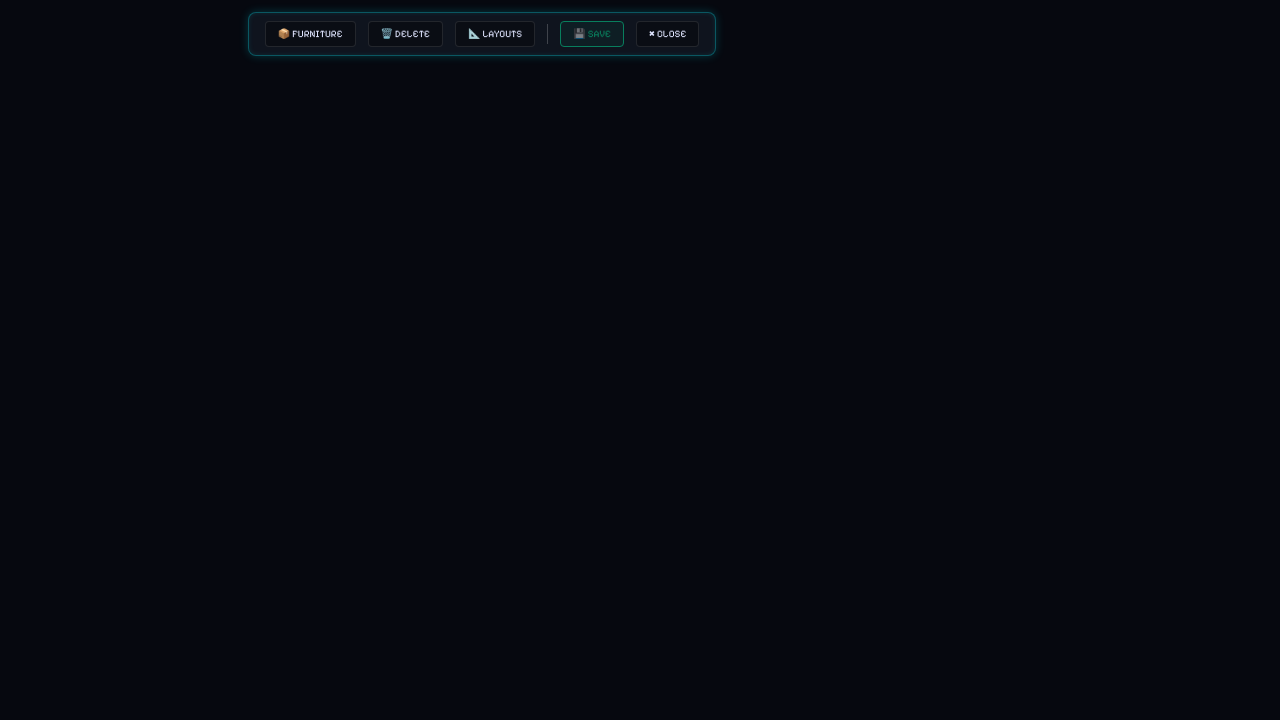
it: Issue #109 — delete confirmation guard › restores focus to a surviving control after the parent re-renders without the deleted row
The width and height of the screenshot is (1280, 720).
Click the button titled "Layout manager".
click(495, 34)  # box x1=455 y1=21 x2=535 y2=47
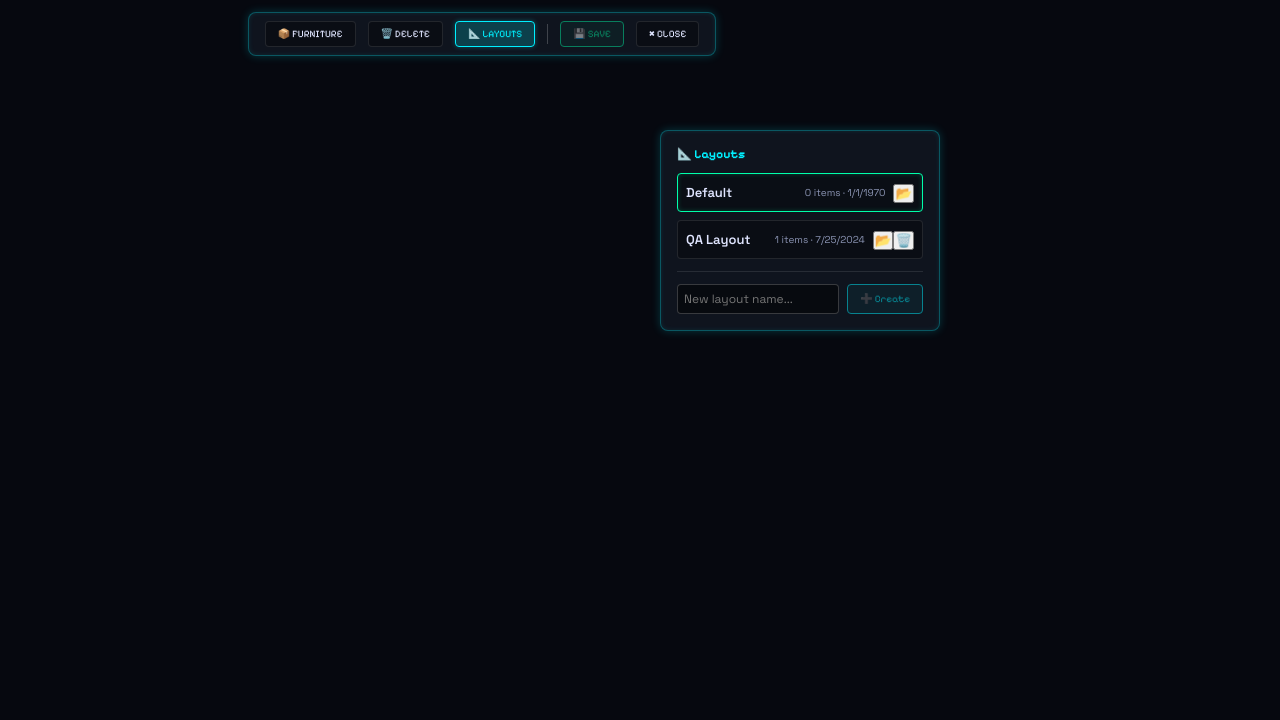
Click the button named "Delete QA Layout".
click(904, 240)  # box x1=893 y1=231 x2=914 y2=250
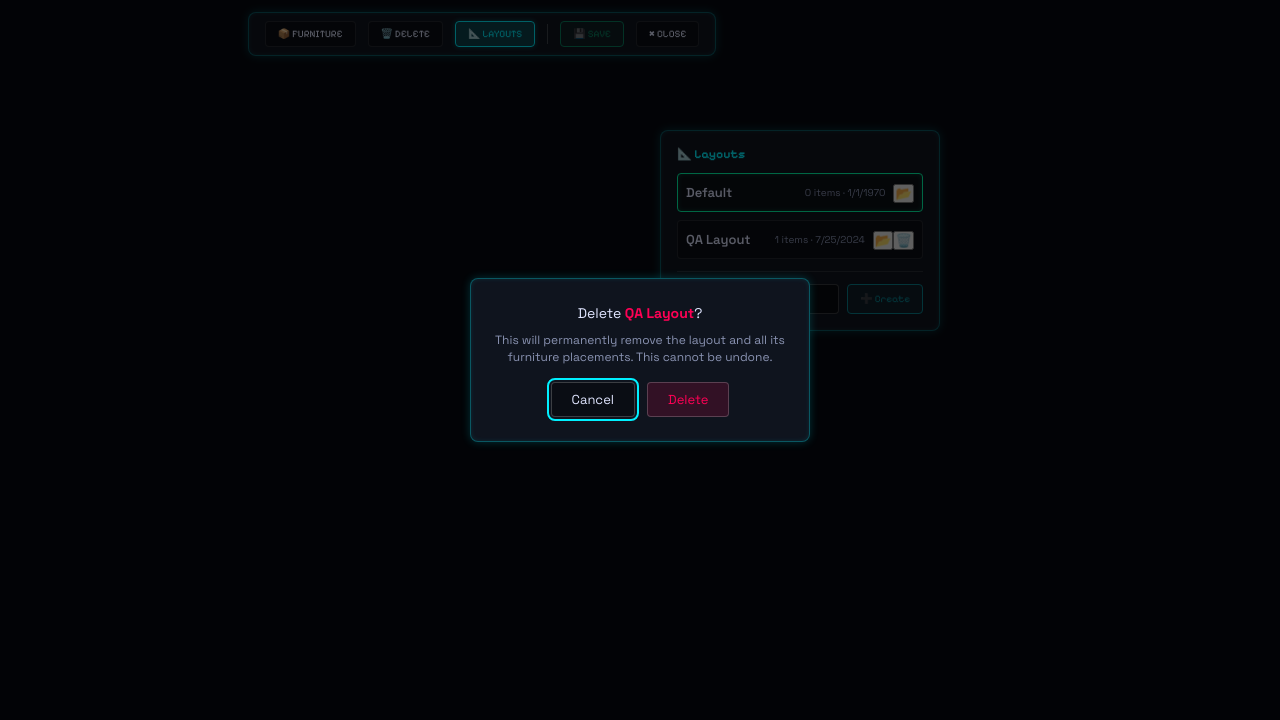
Click the button with class "confirm-delete".
click(688, 399)  # box x1=647 y1=382 x2=729 y2=417
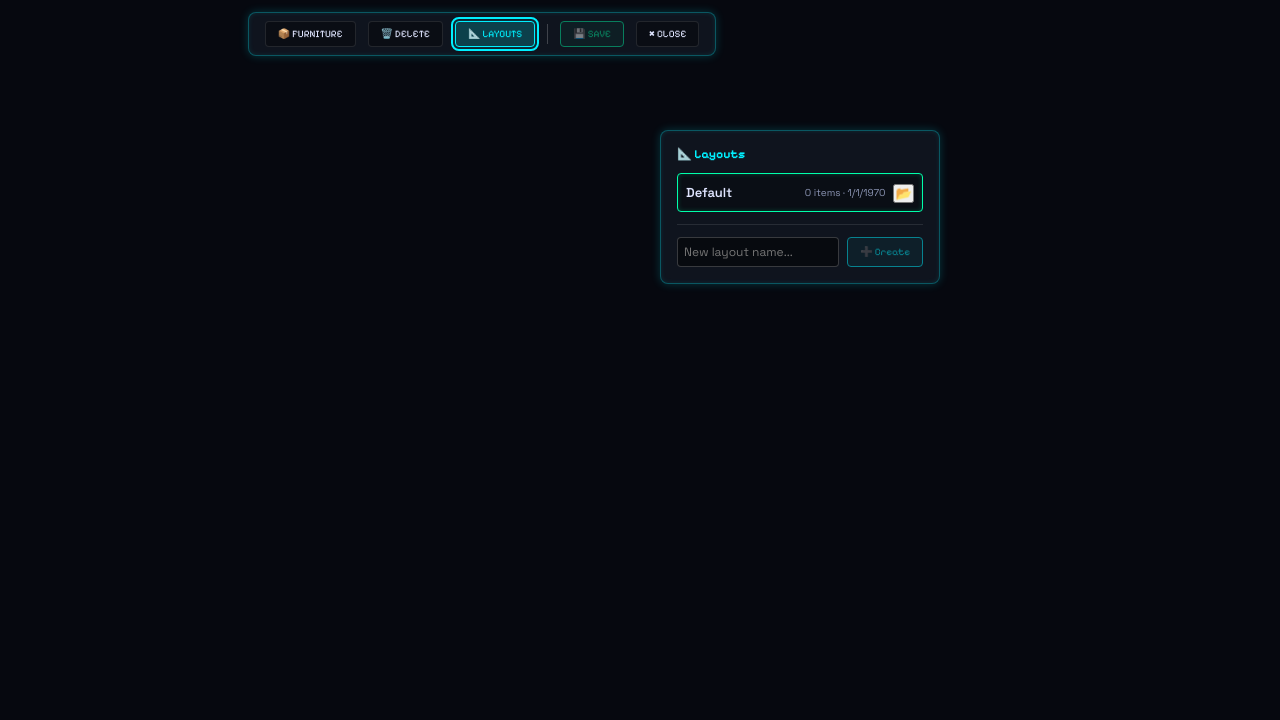
Expected: the dialog is gone
Expected: the text "QA Layout" is gone
